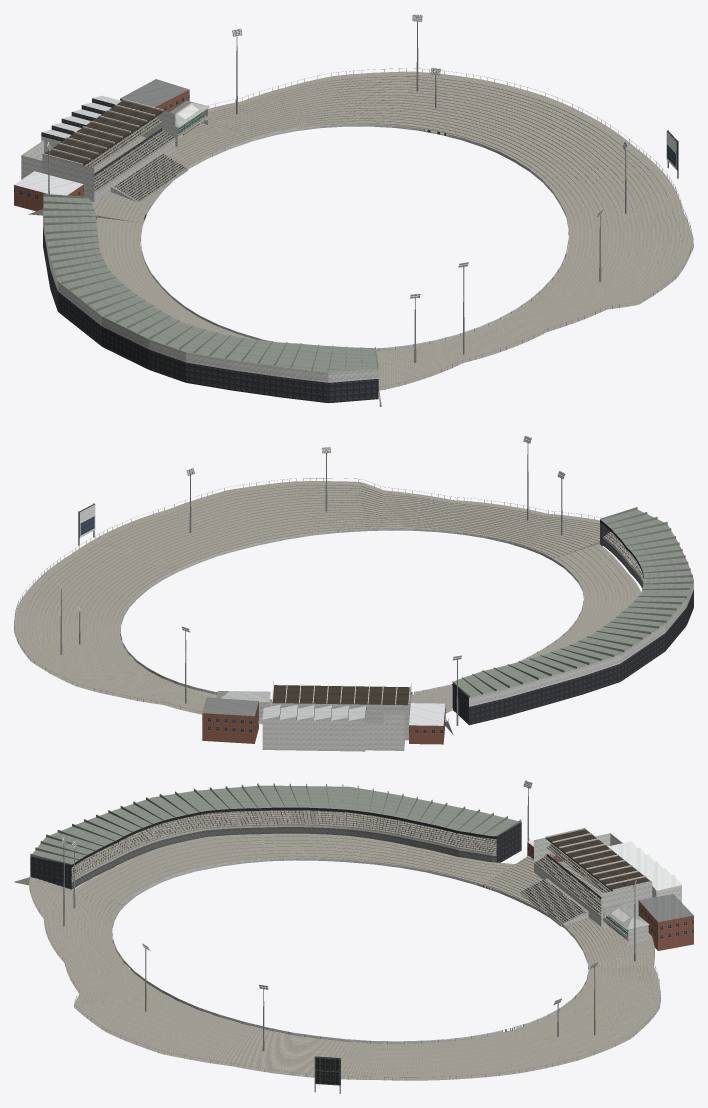
Rendered from moorabbin_part2.glb.
3 renders of one model, top to bottom at view 1: azimuth 30°, elevation 25°; view 2: azimuth 150°, elevation 25°; view 3: azimuth 270°, elevation 25°, orthographic. The views are drawn at different scales.
Parts seen in each view (by area): view 1: terrace, grandstand, huggins_stand, terrace_pocket, fence, huggins_seats, club_whiteblock, club_sawtooth, club_brickblock, light_towers, ian_drake_pavilion, crest_posts (+1 smaller); view 2: terrace, grandstand, terrace_pocket, club_sawtooth, huggins_stand, club_brickblock, fence, club_whiteblock, club_rearroof, light_towers, crest_posts, ian_drake_pavilion (+1 smaller); view 3: terrace, grandstand, terrace_pocket, huggins_stand, fence, club_brickblock, huggins_seats, club_sawtooth, longstand_benches, light_towers, ian_drake_pavilion, scoreboard (+1 smaller).
Boxes of the visible parts, <box> form: terrace: <box>28,71,693,406</box>; grandstand: <box>43,193,378,403</box>; huggins_stand: <box>42,99,188,202</box>; terrace_pocket: <box>96,217,254,339</box>; fence: <box>140,123,568,350</box>; huggins_seats: <box>84,117,186,200</box>; club_whiteblock: <box>14,171,83,211</box>; club_sawtooth: <box>41,95,121,153</box>; club_brickblock: <box>120,79,189,112</box>; light_towers: <box>47,14,627,362</box>; ian_drake_pavilion: <box>169,100,209,146</box>; crest_posts: <box>207,68,693,390</box>; terrace: <box>14,481,599,734</box>; grandstand: <box>452,507,693,725</box>; terrace_pocket: <box>418,544,641,713</box>; club_sawtooth: <box>262,704,366,751</box>; huggins_stand: <box>272,681,411,740</box>; club_brickblock: <box>202,697,258,743</box>; fence: <box>120,528,584,701</box>; club_whiteblock: <box>409,703,445,744</box>; club_rearroof: <box>365,712,404,750</box>; light_towers: <box>59,435,565,725</box>; crest_posts: <box>14,478,602,721</box>; ian_drake_pavilion: <box>217,691,270,717</box>; terrace: <box>14,856,660,1080</box>; grandstand: <box>30,783,521,889</box>; terrace_pocket: <box>75,833,514,904</box>; huggins_stand: <box>520,827,652,926</box>; fence: <box>112,857,588,1043</box>; club_brickblock: <box>638,894,693,950</box>; huggins_seats: <box>521,844,610,923</box>; club_sawtooth: <box>608,841,681,902</box>; longstand_benches: <box>38,811,516,882</box>; light_towers: <box>62,780,636,1051</box>; ian_drake_pavilion: <box>601,904,649,946</box>; scoreboard: <box>314,1056,340,1093</box>.
Size of the model in its own units: 228 by 35.34 by 235.
Materials: 45 (45 with a texture image).
